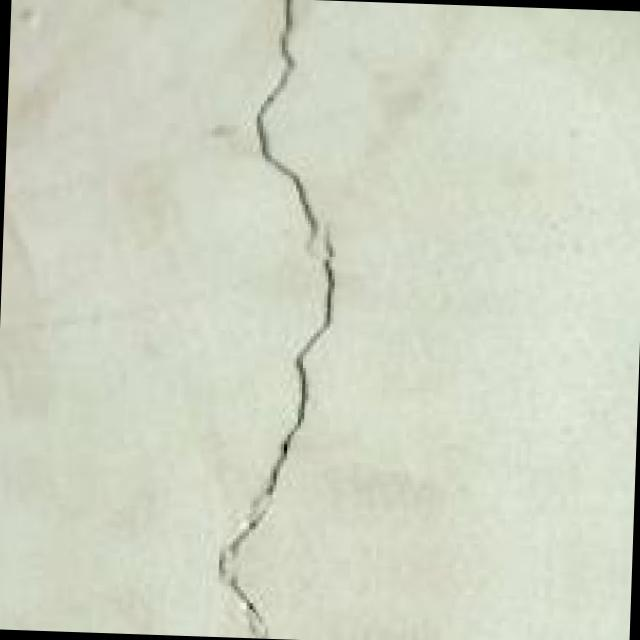crack: (171, 0, 388, 638)
